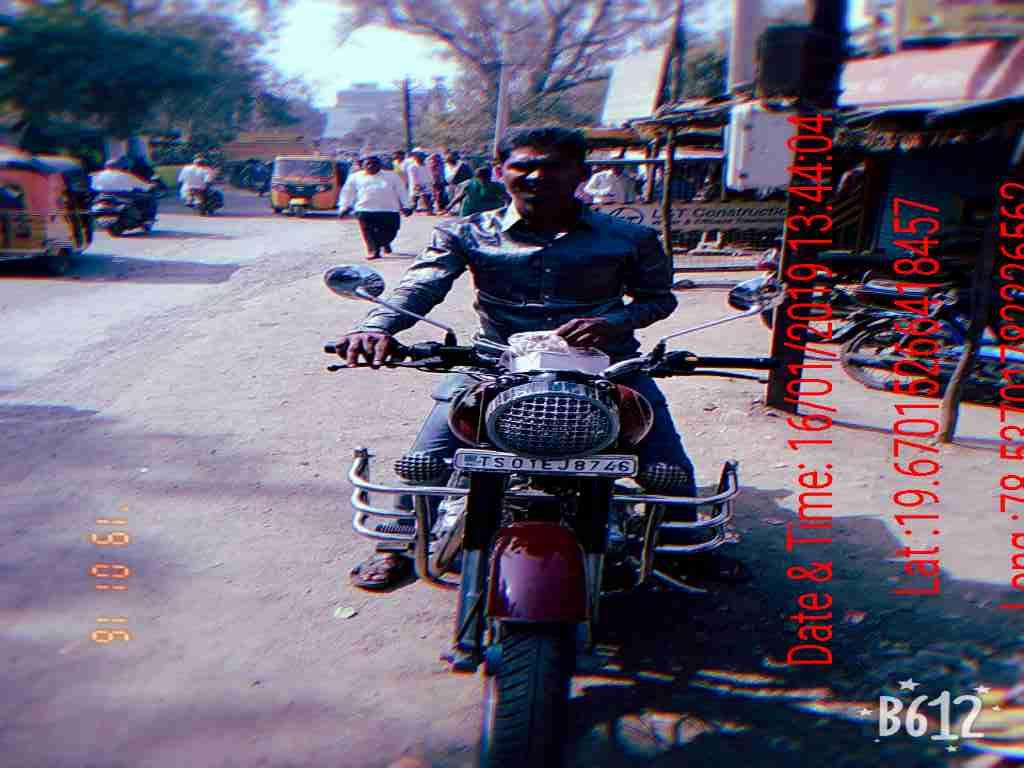plate: (453, 443, 646, 480)
